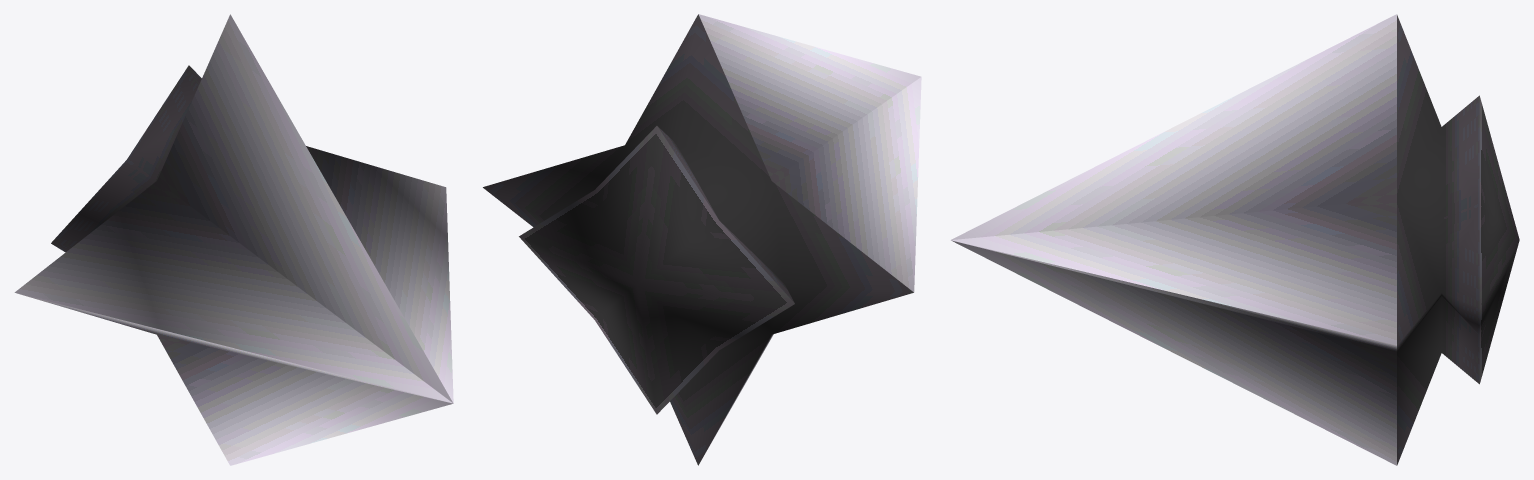
Rendered from WpnToonLinkHookshotHead.obj.
3 renders of one model, left to right at view 1: azimuth 30°, elevation 25°; view 2: azimuth 150°, elevation 25°; view 3: azimuth 270°, elevation 25°, orthographic.
Parts seen in each view (by area): view 1: polygon0; view 2: polygon0; view 3: polygon0.
Boxes of the visible parts, <box> form: polygon0: <box>14,14,453,465</box>; polygon0: <box>483,14,921,465</box>; polygon0: <box>950,14,1519,465</box>.
Size of the model in its own units: 1.89 by 1.89 by 2.16.
Materials: 1 (1 with a texture image).
